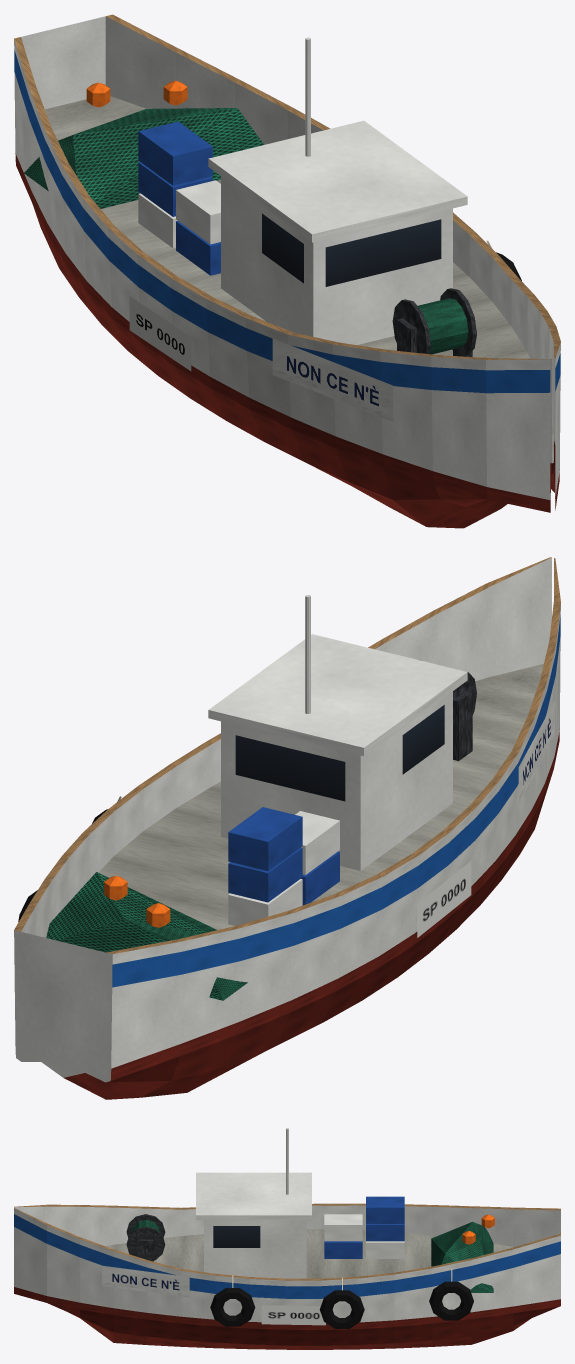
The model's file is SM_Molo_GozzoTuga.fbx.
3 renders of one model, top to bottom at view 1: azimuth 30°, elevation 25°; view 2: azimuth 150°, elevation 25°; view 3: azimuth 270°, elevation 25°, orthographic. The views are drawn at different scales.
Parts seen in each view (by area): view 1: SM_Molo_GozzoTuga; view 2: SM_Molo_GozzoTuga; view 3: SM_Molo_GozzoTuga.
Part boxes in pixels (x1,y1,x2,y2): SM_Molo_GozzoTuga: (14, 14, 560, 528); SM_Molo_GozzoTuga: (14, 557, 560, 1099); SM_Molo_GozzoTuga: (14, 1128, 560, 1349).
Size of the model in its own units: 303 by 850 by 360.
1 material, 1 textured.
